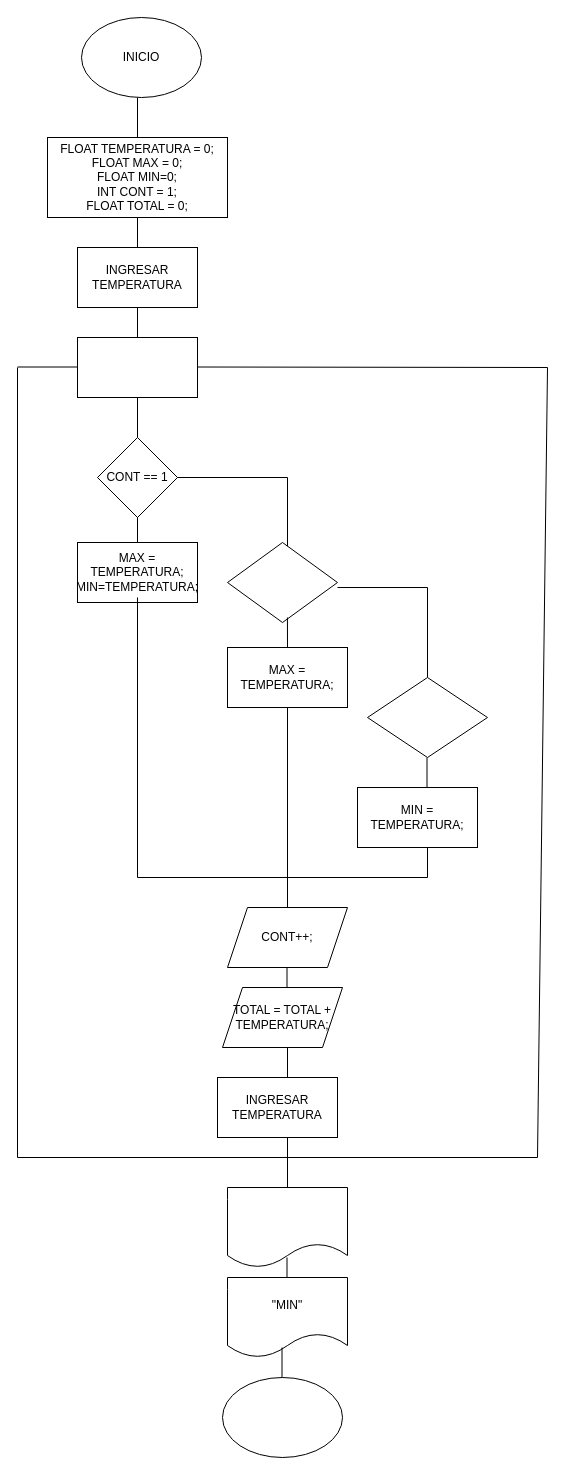
Some shapes in this 566 by 1475 pixel diagram are drawn without their labels. Each missing label, with the centre of its shape:
"MAX": pixel 287 1227
FIN: pixel 282 1417
TEMPERATURA <=1000: pixel 137 367
TEMPERATURA > MAX: pixel 282 582
TEMPERATURA<MIN: pixel 427 717
